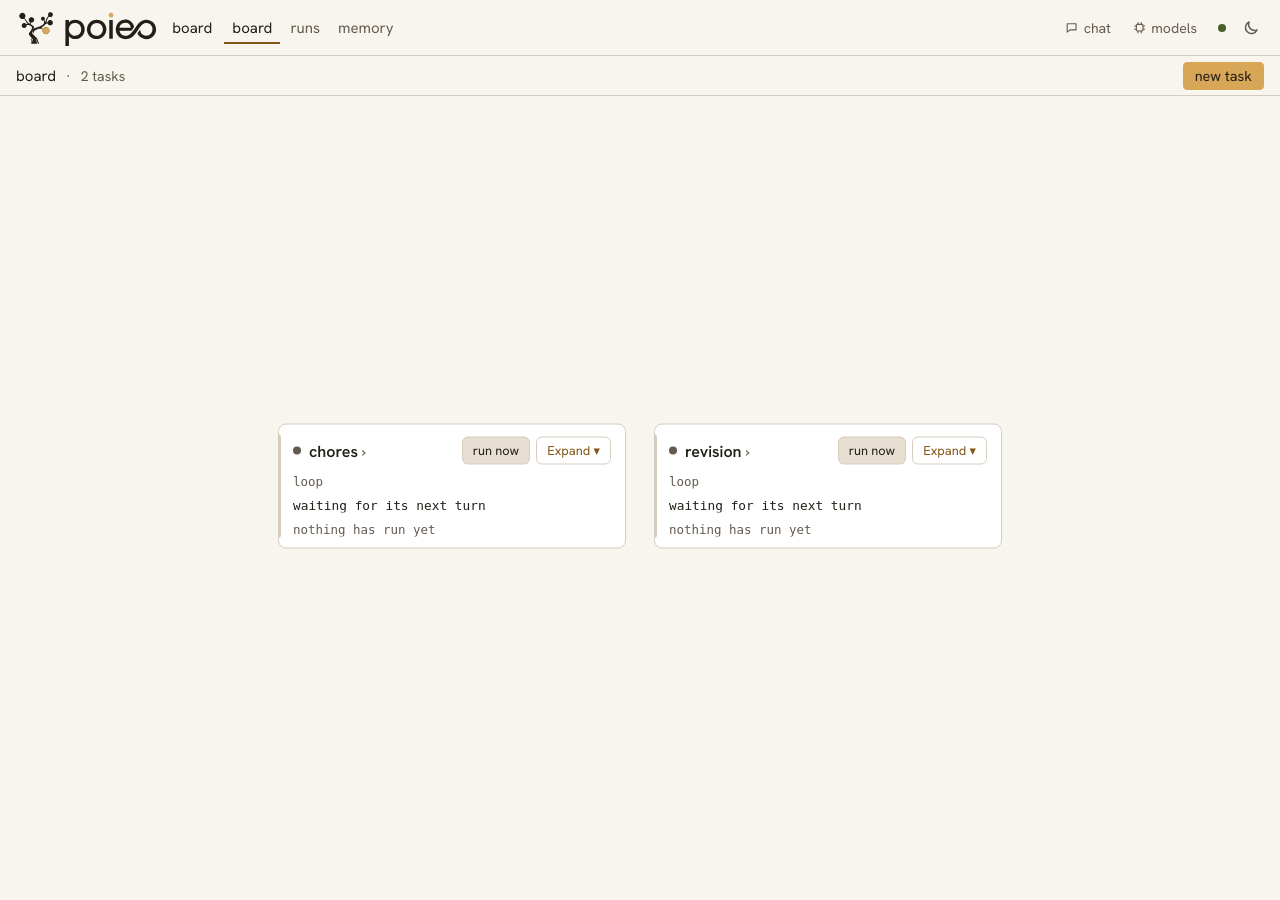
Test case: closing the drawer puts it away
Click the button with class "basic-pick" showing "chores". click: (374, 450)
box: [293, 440, 456, 461]
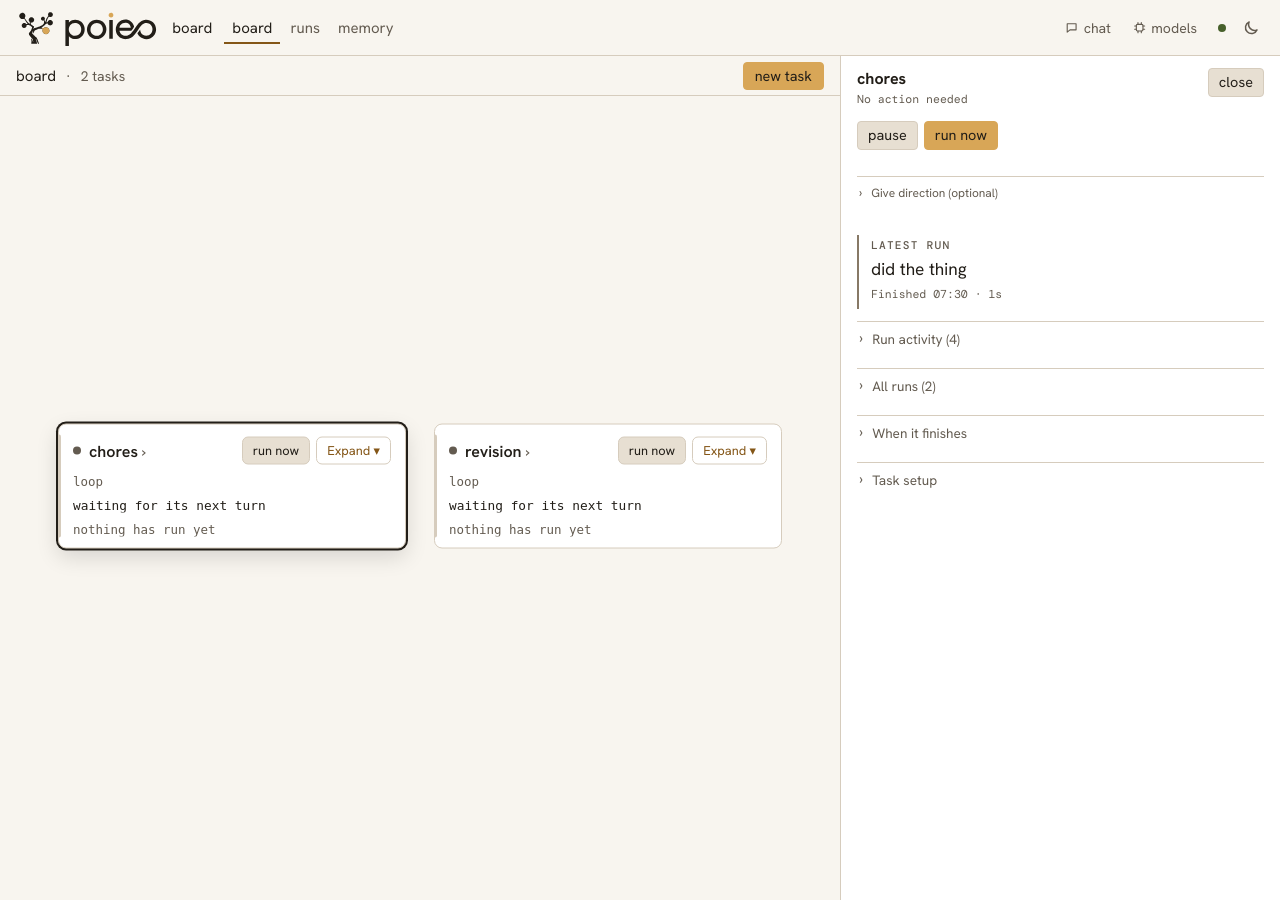
Click the button with aria-label "Close". click: (1236, 82)
box: [1208, 68, 1264, 97]
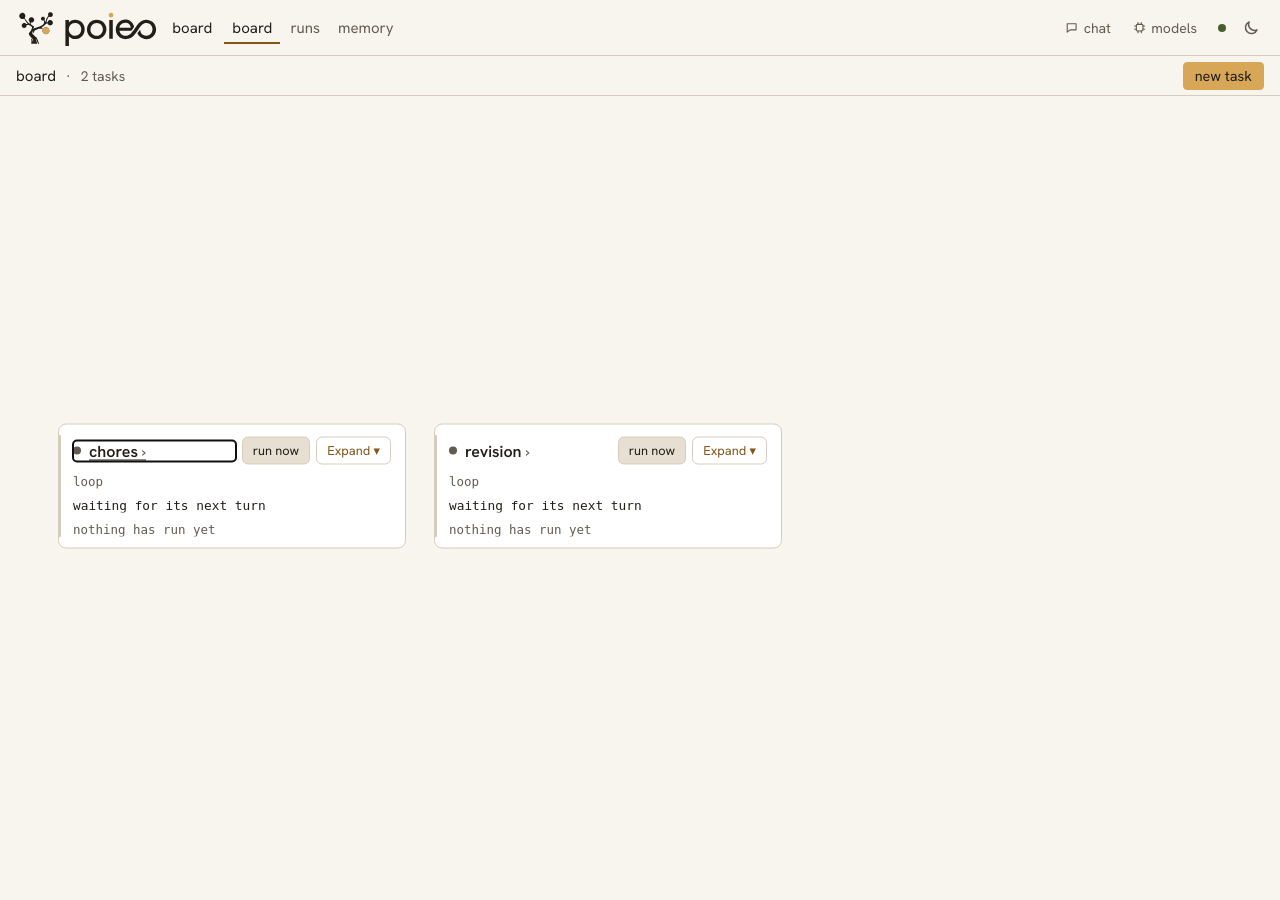
expect the element with class "drawer" is gone: met
